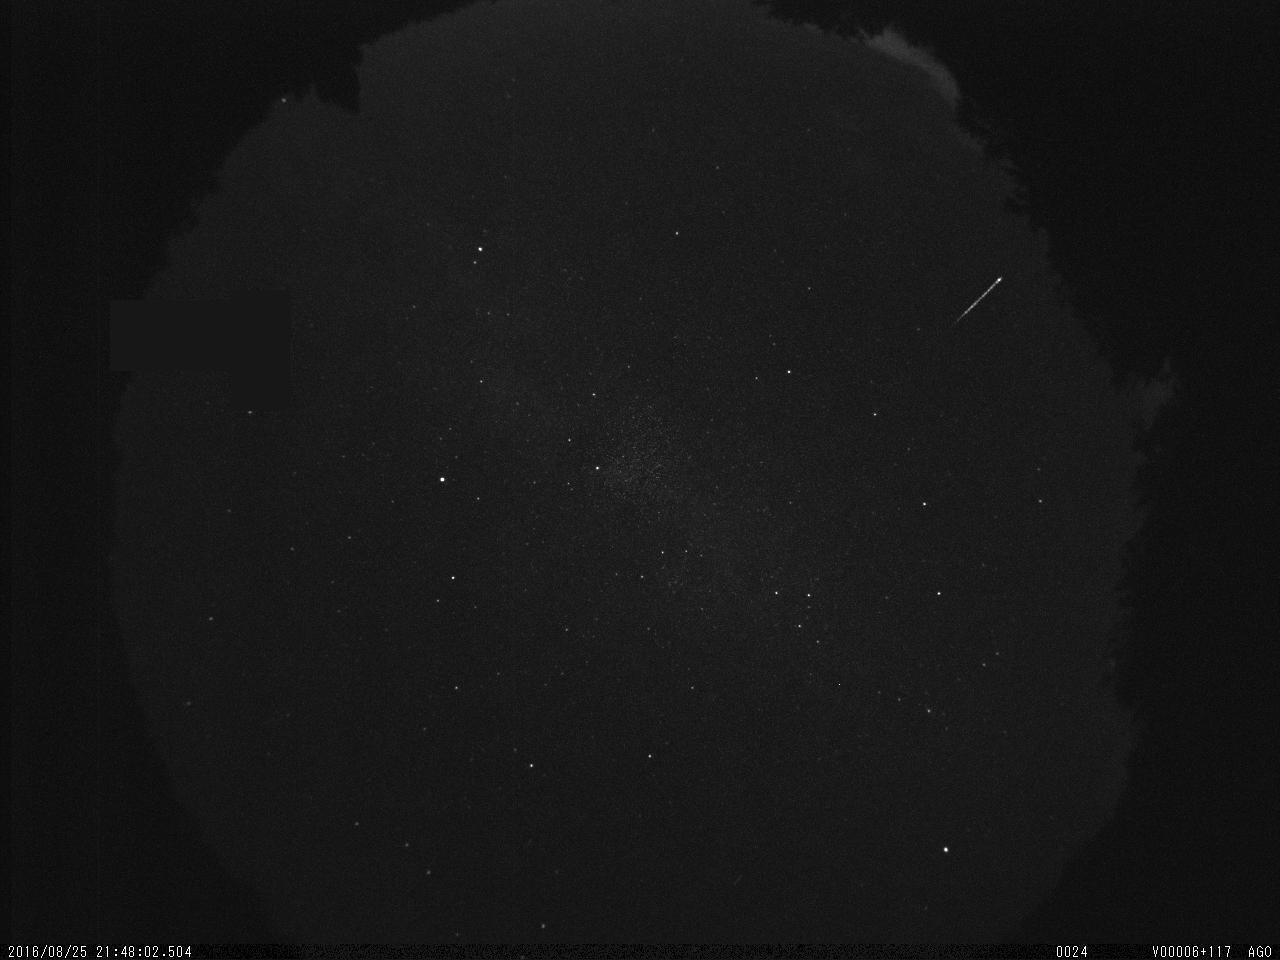meteor: (907, 229, 1047, 366)
